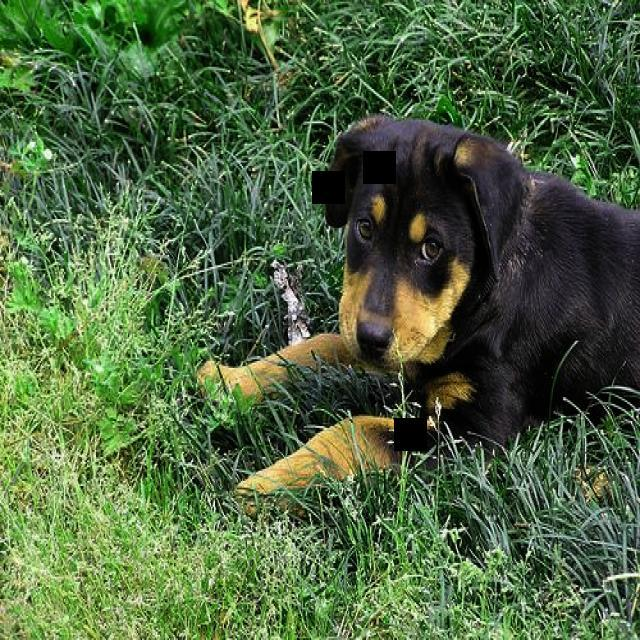puppy-dog: (194, 112, 640, 504)
